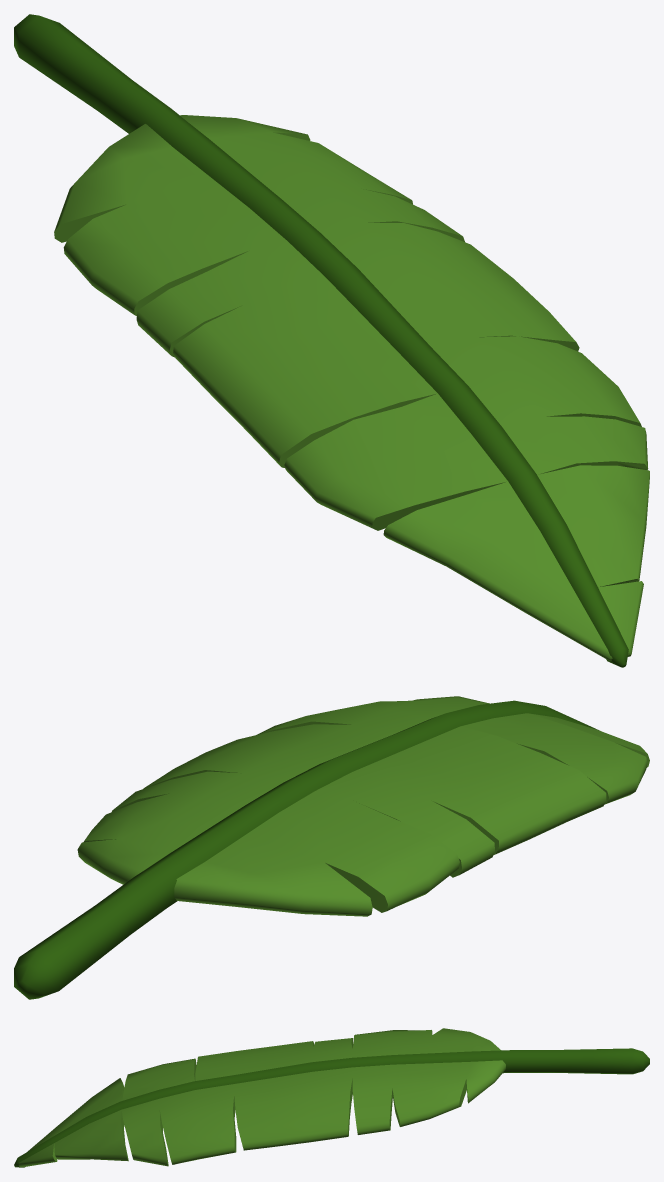
The model's file is palm-leaf.obj.
The picture shows the model from 3 angles, top to bottom: view 1: azimuth 30°, elevation 25°; view 2: azimuth 150°, elevation 25°; view 3: azimuth 270°, elevation 25°; orthographic projection. The views are drawn at different scales.
Visible parts, largest first — view 1: Leaf_Cylinder.001, Core_Cylinder; view 2: Leaf_Cylinder.001, Core_Cylinder; view 3: Leaf_Cylinder.001, Core_Cylinder.
Part boxes in pixels (x1,y1,x2,y2): Leaf_Cylinder.001: [54, 115, 649, 660]; Core_Cylinder: [14, 14, 628, 667]; Leaf_Cylinder.001: [77, 696, 649, 916]; Core_Cylinder: [14, 700, 599, 999]; Leaf_Cylinder.001: [18, 1028, 505, 1167]; Core_Cylinder: [14, 1048, 649, 1167].
Size of the model in its own units: 0.8267 by 0.5135 by 2.48.
